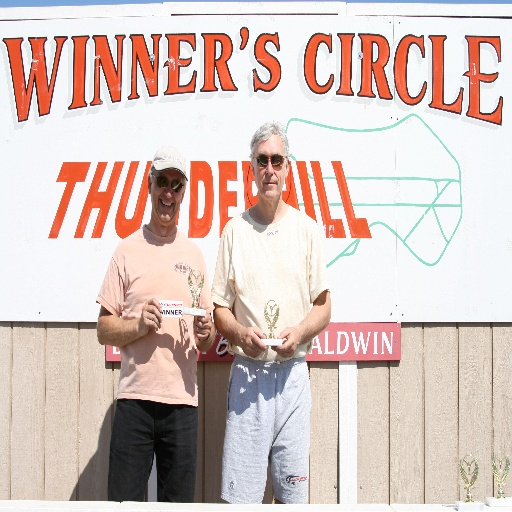hand: (136, 293, 163, 336), (270, 325, 299, 357), (241, 324, 267, 357), (192, 303, 212, 342)
